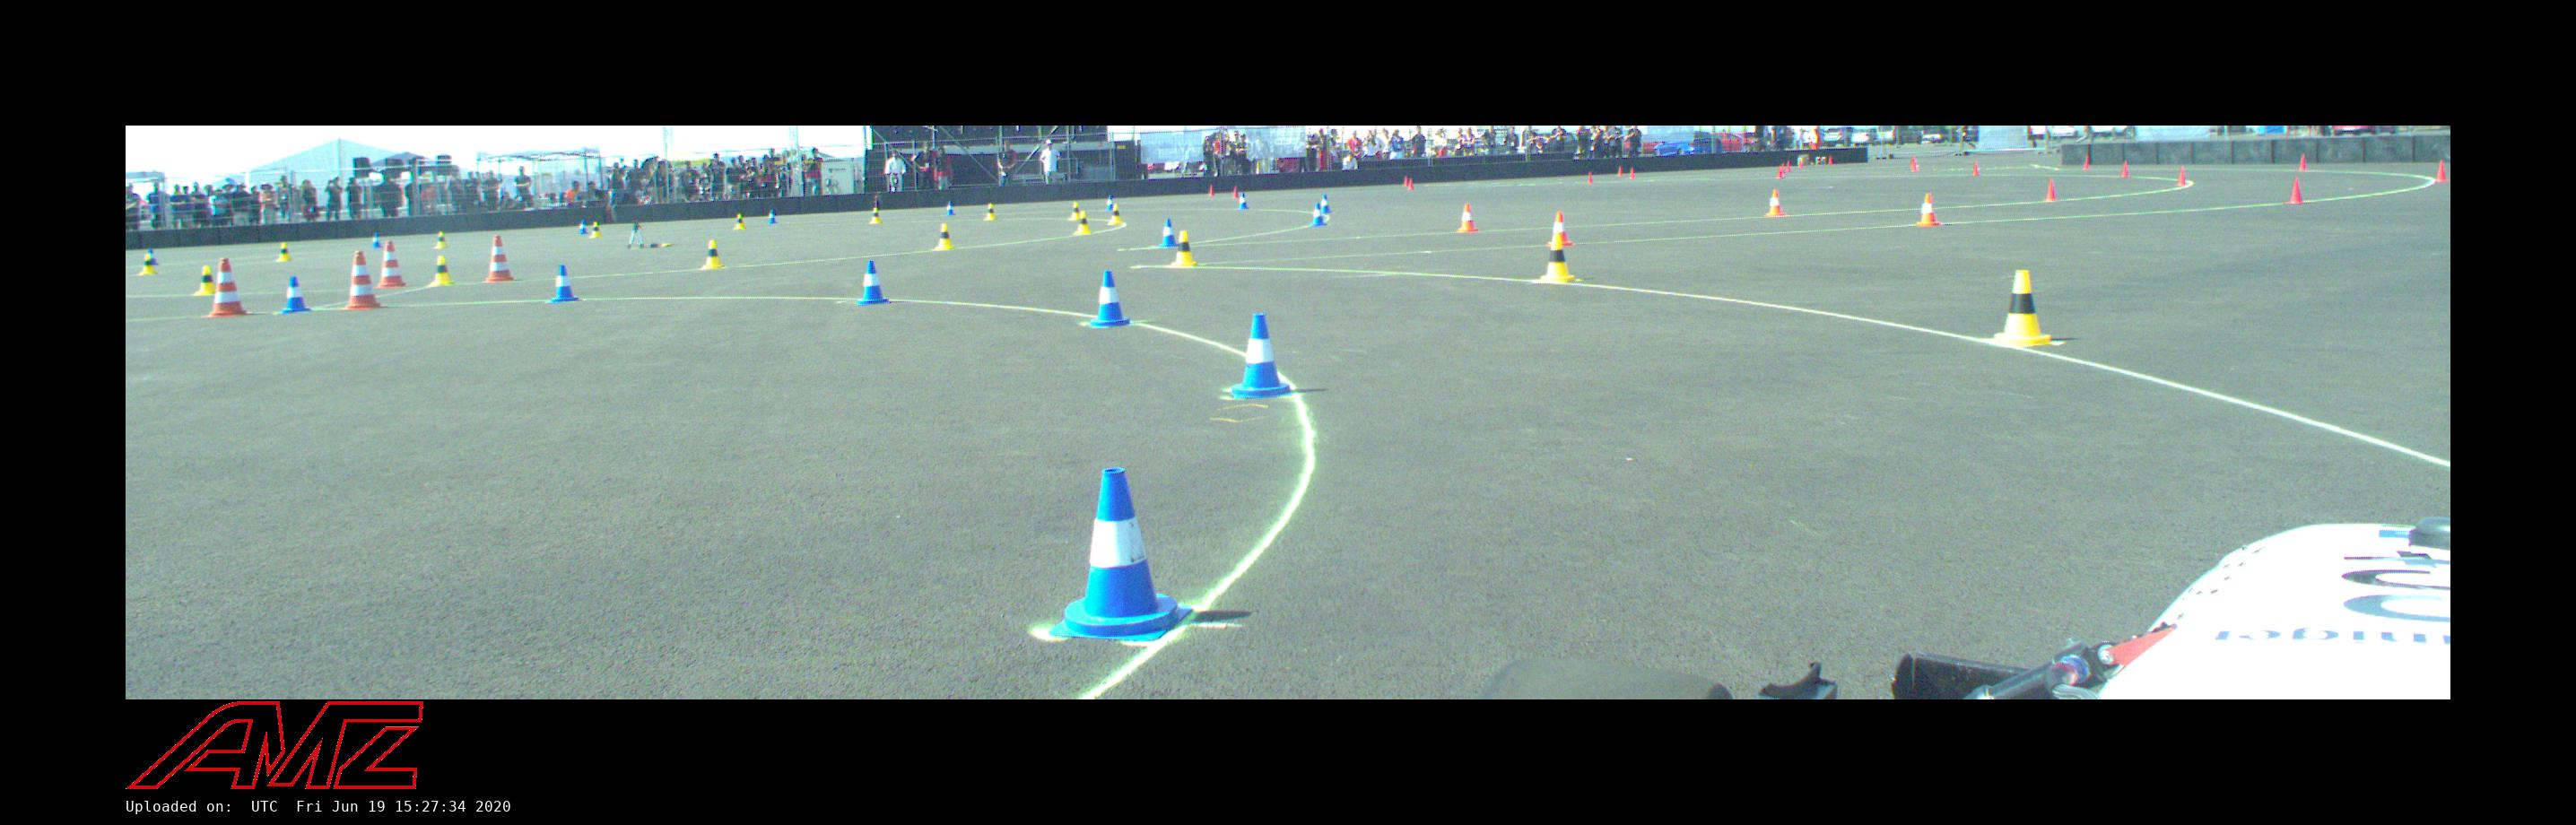blue_cone: (1050, 468, 1194, 643), (1230, 312, 1293, 399), (1086, 270, 1134, 329), (858, 261, 889, 306), (549, 266, 578, 302), (281, 276, 310, 312), (1158, 219, 1176, 247), (1311, 202, 1326, 225), (1237, 192, 1249, 209), (1321, 194, 1331, 212), (766, 210, 779, 224), (370, 233, 381, 248), (577, 220, 588, 233), (945, 202, 955, 215), (1106, 196, 1114, 210)
large_orange_cone: (204, 258, 250, 317), (340, 250, 386, 309), (376, 240, 407, 288), (483, 235, 514, 281)
orange_cone: (1548, 212, 1574, 247), (1916, 194, 1940, 227), (1457, 204, 1479, 232), (1764, 191, 1784, 217)
unknown_cone: (2285, 179, 2307, 204), (2044, 179, 2057, 200), (2435, 161, 2448, 182), (2177, 166, 2188, 186), (2121, 161, 2131, 176), (2298, 154, 2308, 169), (2081, 156, 2091, 169), (1909, 156, 1917, 171), (1973, 163, 1980, 174)
yellow_cone: (1990, 270, 2054, 347), (1538, 235, 1576, 283), (1170, 230, 1196, 266), (430, 256, 453, 286), (701, 240, 724, 270), (195, 266, 214, 293), (936, 224, 955, 250), (1076, 212, 1091, 233), (140, 255, 154, 274), (276, 242, 291, 260), (1109, 204, 1122, 224), (435, 232, 449, 248), (733, 214, 746, 230), (984, 204, 997, 220), (590, 222, 601, 237), (1069, 202, 1079, 219), (871, 209, 881, 224)
